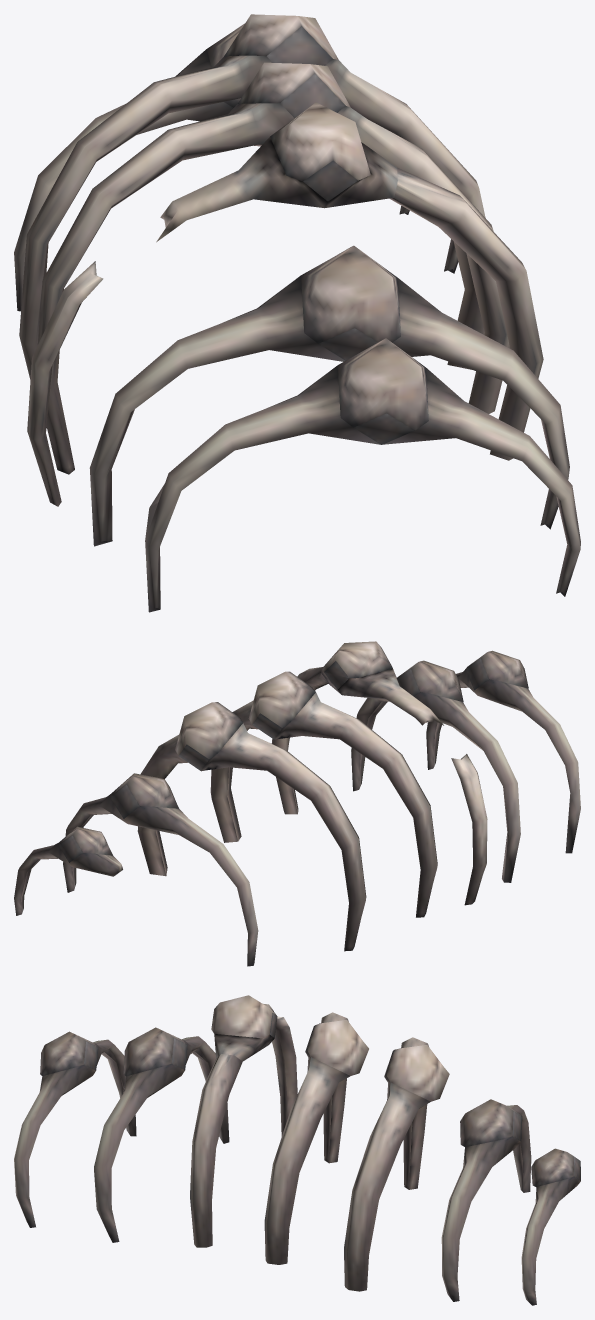
Rendered from jtpy_gutou_02.FBX.
3 renders of one model, top to bottom at view 1: azimuth 30°, elevation 25°; view 2: azimuth 150°, elevation 25°; view 3: azimuth 270°, elevation 25°, orthographic. The views are drawn at different scales.
Visible parts, largest first — view 1: jtpy_gutou_02; view 2: jtpy_gutou_02; view 3: jtpy_gutou_02.
Boxes of the visible parts, left/top/right/bottom form: jtpy_gutou_02: left=14, top=14, right=580, bottom=612; jtpy_gutou_02: left=14, top=641, right=580, bottom=966; jtpy_gutou_02: left=14, top=995, right=580, bottom=1305.
Size of the model in its own units: 1.88 by 1.11 by 2.57.
